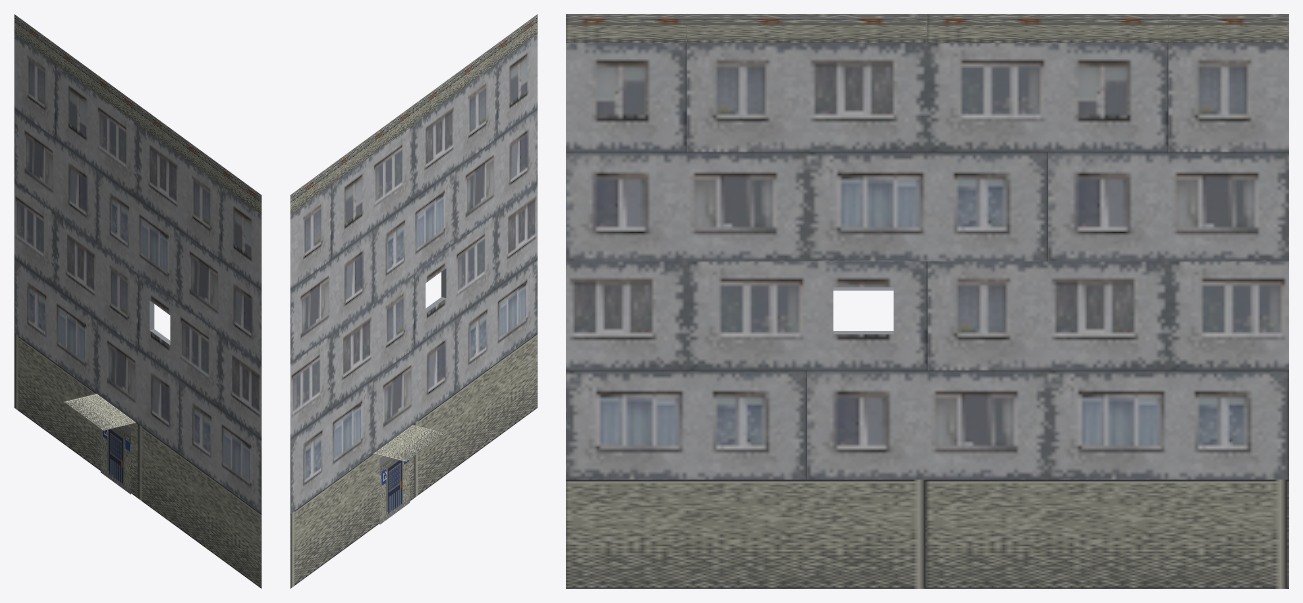
File: house_7.gltf
3 renders of one model, left to right at view 1: azimuth 30°, elevation 25°; view 2: azimuth 150°, elevation 25°; view 3: azimuth 270°, elevation 25°, orthographic. The views are drawn at different scales.
Bounding box in the file's own units: 1.6 × 15.8 × 18.
2 materials, 2 textured.
